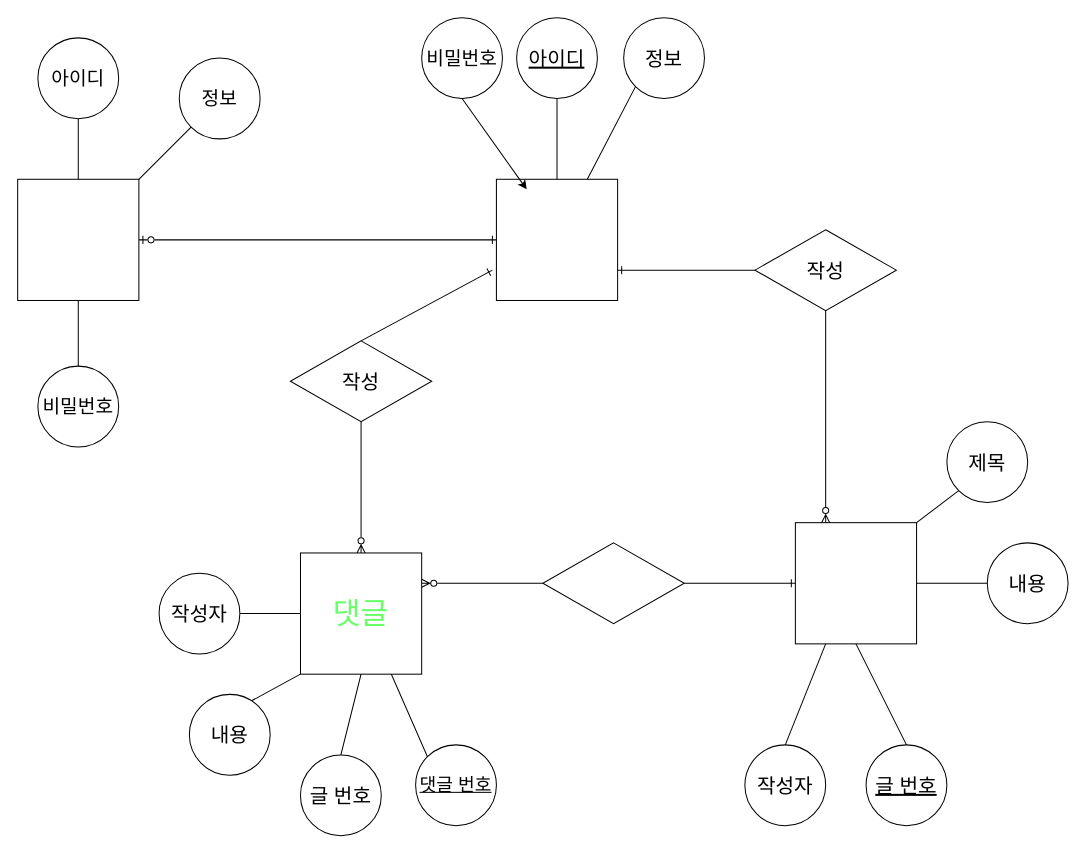
Some shapes in this 1087 by 853 pixel diagram are drawn without their labels. Here are the shapes that lost their labels. From the top down, the box of each, then its label:
(17, 178, 139, 300): 관리자
(495, 178, 618, 300): 회원
(542, 542, 684, 624): 포함
(794, 522, 917, 644): 게시글
